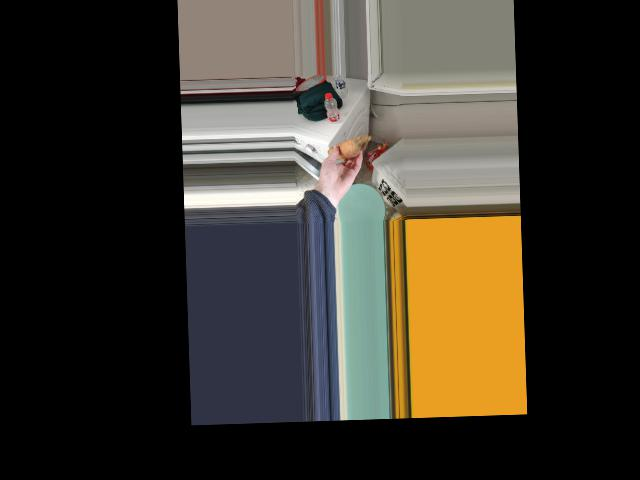sweet_potato: (332, 138, 359, 158)
